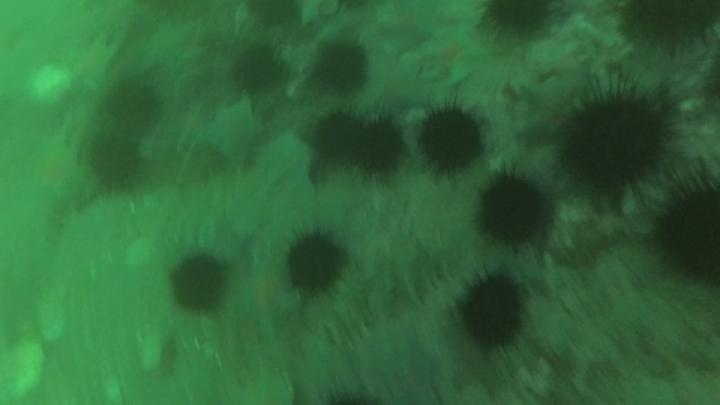echinus: (558, 89, 673, 196), (651, 171, 720, 286), (456, 274, 527, 353), (475, 173, 550, 247), (618, 1, 719, 52), (416, 105, 486, 175), (283, 231, 348, 296), (167, 252, 230, 314), (87, 132, 145, 190), (350, 117, 407, 175), (104, 77, 162, 131), (313, 40, 370, 94), (480, 1, 556, 38), (230, 44, 285, 95), (312, 111, 366, 162), (315, 378, 384, 405), (242, 1, 304, 28)
holothurian: (369, 234, 459, 308), (322, 270, 376, 348)
scallop: (1, 335, 48, 404), (26, 62, 76, 108)
starfish: (353, 326, 443, 405), (514, 70, 593, 144), (229, 260, 301, 339), (195, 96, 267, 170), (22, 133, 93, 207), (357, 55, 432, 117), (133, 19, 205, 82), (421, 24, 490, 86), (257, 131, 318, 197), (377, 4, 440, 52), (199, 213, 255, 266), (66, 36, 119, 90), (294, 1, 345, 29)
